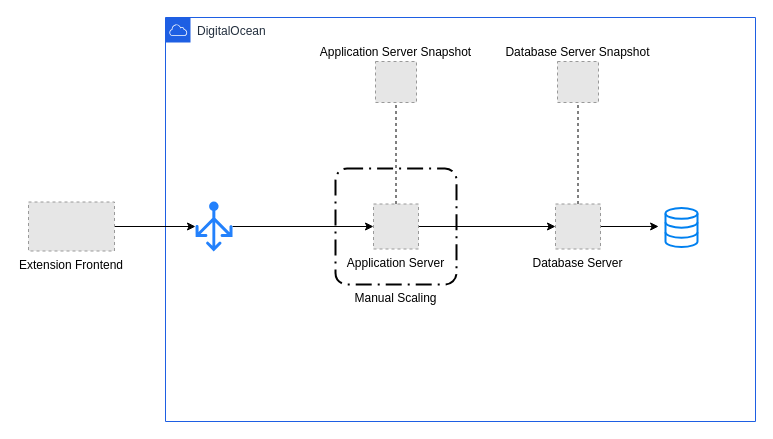
Image size: 773x439. Some labels were removed from this diagram. Grey dashed boxes stand in for pictures. Each missing label, with the centre of its shape:
Load Balancer: (x=213, y=226)
Volume: (x=681, y=227)
